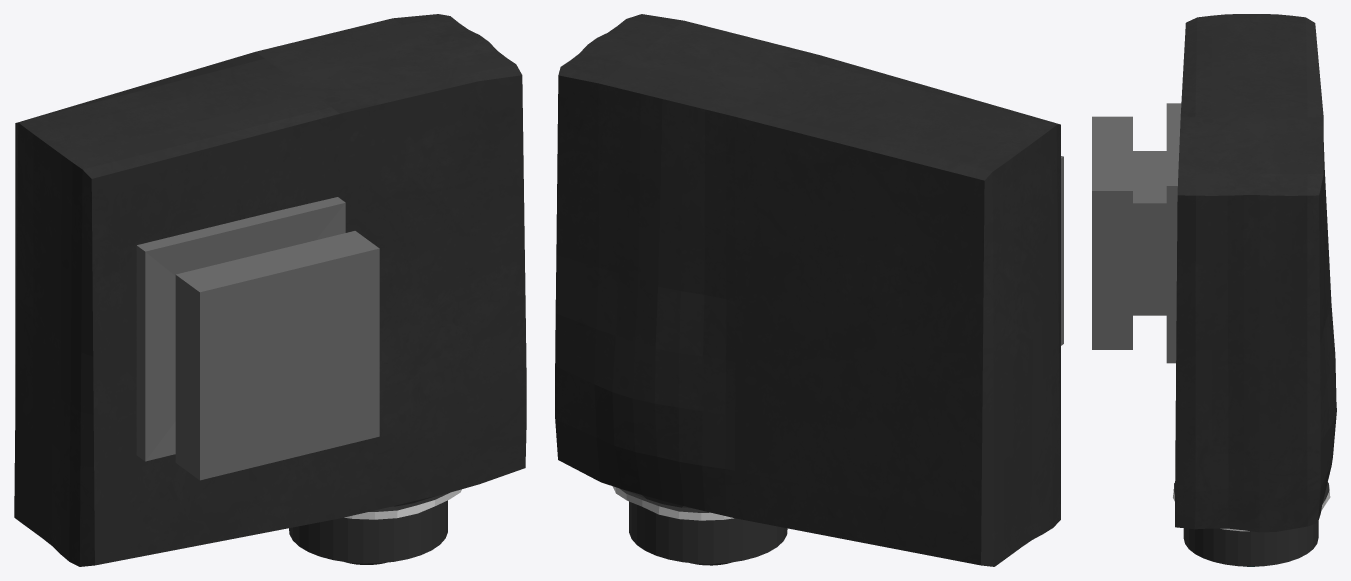
The model's file is CProjector.fbx.
The picture shows the model from 3 angles, left to right: view 1: azimuth 30°, elevation 25°; view 2: azimuth 150°, elevation 25°; view 3: azimuth 270°, elevation 25°; orthographic projection. The views are drawn at different scales.
Parts seen in each view (by area): view 1: ProjectBase.004, ProjectorHolder.008, Camera.004; view 2: ProjectBase.004, Camera.004; view 3: ProjectBase.004, ProjectorHolder.008, Camera.004.
Part boxes in pixels (<box>): ProjectBase.004: <box>14,14,526,566</box>; ProjectorHolder.008: <box>136,197,379,480</box>; Camera.004: <box>289,500,447,563</box>; ProjectBase.004: <box>555,14,1060,566</box>; Camera.004: <box>629,501,787,563</box>; ProjectBase.004: <box>1173,14,1336,532</box>; ProjectorHolder.008: <box>1092,103,1181,363</box>; Camera.004: <box>1183,521,1318,566</box>.
Bounding box in the file's own units: 26.69 × 28.4 × 15.23.
Materials: 5 (2 with a texture image).
